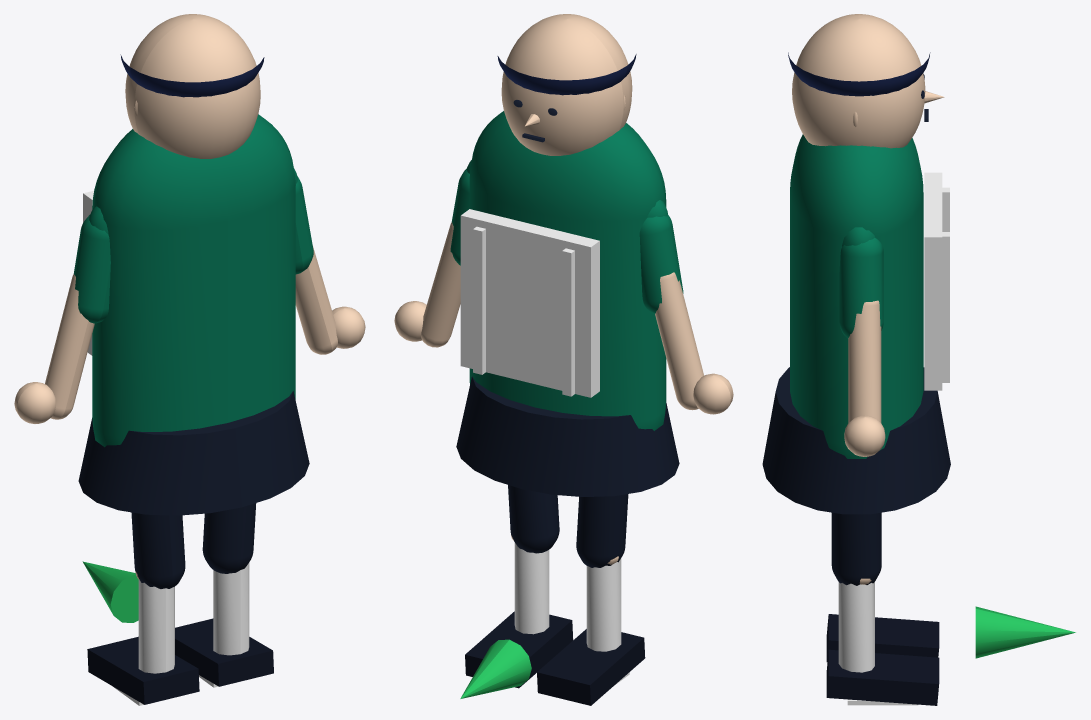
Rendered from player_humanoid.glb.
3 views of the same model, side by side, from view 1: azimuth 30°, elevation 25°; view 2: azimuth 150°, elevation 25°; view 3: azimuth 270°, elevation 25° (orthographic). The views are drawn at different scales.
Visible parts, largest first — view 1: jersey_torso_athletic_capsule, shorts_pants_body, skin_head_face, boots_shoes_cleats_l, boots_shoes_cleats_r, shorts_thigh_l, skin_forearm_l, socks_lower_leg_l, jersey_sleeve_l, shorts_thigh_r, socks_lower_leg_r, skin_forearm_r (+5 smaller); view 2: jersey_torso_athletic_capsule, jersey_chest_panel, shorts_pants_body, skin_head_face, boots_shoes_cleats_l, skin_forearm_l, shorts_thigh_l, socks_lower_leg_l, socks_lower_leg_r, boots_shoes_cleats_r, shorts_thigh_r, skin_forearm_r (+8 smaller); view 3: jersey_torso_athletic_capsule, shorts_pants_body, skin_head_face, boots_shoes_cleats_r, jersey_chest_panel, skin_forearm_r, shorts_thigh_r, jersey_sleeve_r, socks_lower_leg_r, boots_shoes_cleats_l, orientation_boot_shadow, hair_cap (+2 smaller).
Part boxes in pixels (box(x1,y1,x2,y2)): jersey_torso_athletic_capsule: box(92, 114, 295, 447); shorts_pants_body: box(78, 391, 309, 515); skin_head_face: box(125, 14, 260, 158); boots_shoes_cleats_l: box(87, 636, 199, 704); boots_shoes_cleats_r: box(175, 618, 273, 686); shorts_thigh_l: box(131, 512, 185, 588); skin_forearm_l: box(45, 274, 94, 419); socks_lower_leg_l: box(138, 580, 174, 673); jersey_sleeve_l: box(73, 215, 110, 323); shorts_thigh_r: box(202, 503, 256, 573); socks_lower_leg_r: box(213, 563, 249, 655); skin_forearm_r: box(295, 245, 337, 354); jersey_torso_athletic_capsule: box(469, 111, 666, 430); jersey_chest_panel: box(460, 209, 599, 397); shorts_pants_body: box(456, 376, 679, 496); skin_head_face: box(501, 14, 632, 155); boots_shoes_cleats_l: box(537, 629, 645, 705); skin_forearm_l: box(655, 272, 703, 410); shorts_thigh_l: box(576, 494, 628, 567); socks_lower_leg_l: box(586, 558, 621, 651); socks_lower_leg_r: box(514, 542, 549, 634); boots_shoes_cleats_r: box(465, 611, 573, 688); shorts_thigh_r: box(508, 485, 559, 553); skin_forearm_r: box(421, 222, 460, 347); jersey_torso_athletic_capsule: box(790, 134, 923, 458); shorts_pants_body: box(762, 367, 950, 514); skin_head_face: box(792, 14, 925, 148); boots_shoes_cleats_r: box(826, 649, 939, 705); jersey_chest_panel: box(924, 172, 942, 390); skin_forearm_r: box(848, 300, 881, 422); shorts_thigh_r: box(831, 512, 881, 585); jersey_sleeve_r: box(839, 238, 883, 338); socks_lower_leg_r: box(838, 582, 874, 672); boots_shoes_cleats_l: box(826, 614, 939, 662); orientation_boot_shadow: box(975, 606, 1075, 658); hair_cap: box(788, 52, 930, 96).
Bounding box in the file's own units: 0.974 × 1.8 × 0.7787.
